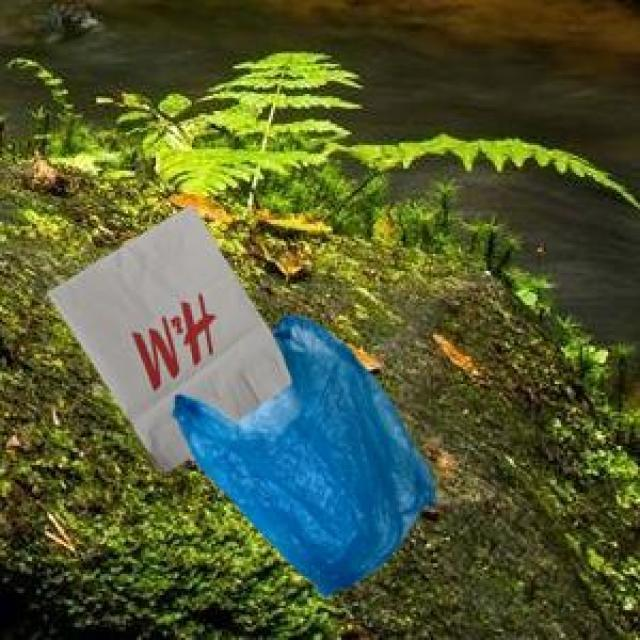paper: (45, 203, 288, 469)
